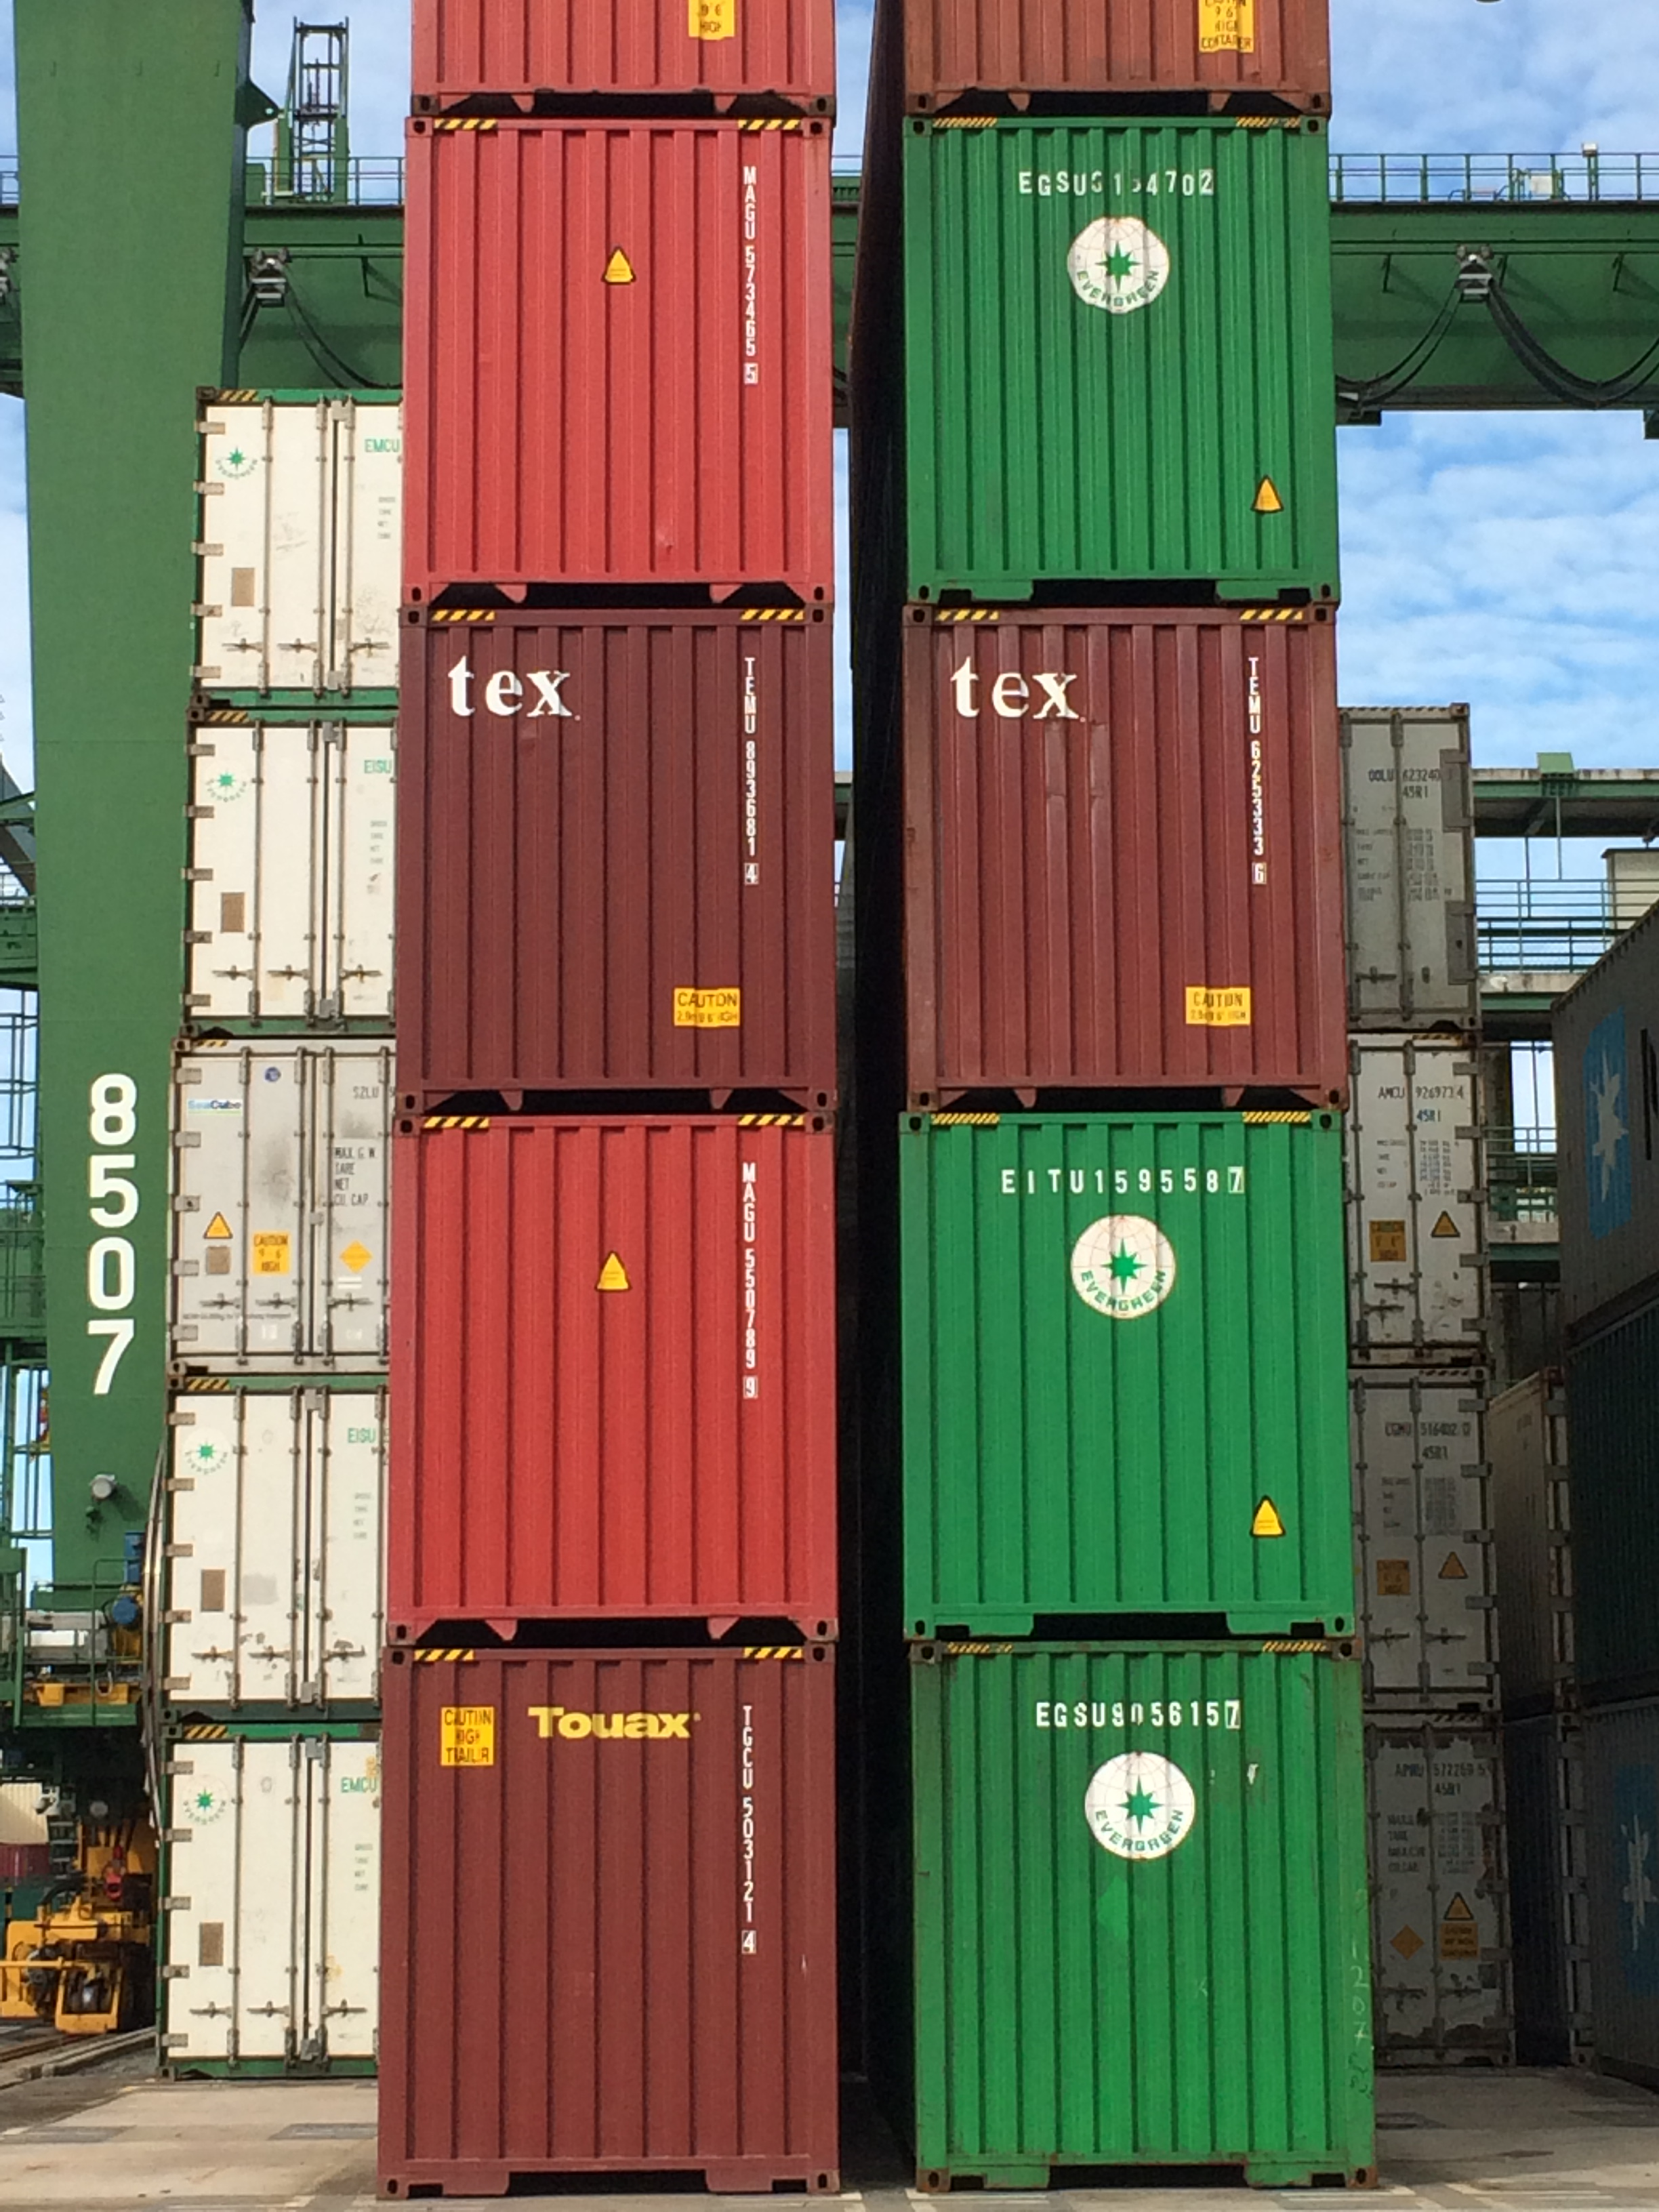container_door: (167, 1029, 383, 1378), (164, 1374, 380, 1723), (155, 1728, 371, 2076), (200, 392, 406, 714), (179, 712, 385, 1035), (1363, 1710, 1520, 2074), (1345, 707, 1485, 1036), (1359, 1374, 1497, 1705), (1354, 1038, 1492, 1367)
container_no_door: (383, 1649, 842, 2188), (382, 1104, 838, 1642), (911, 1637, 1368, 2175), (890, 1104, 1356, 1629), (904, 603, 1349, 1111), (394, 117, 836, 608), (392, 610, 835, 1099), (917, 106, 1335, 597)
